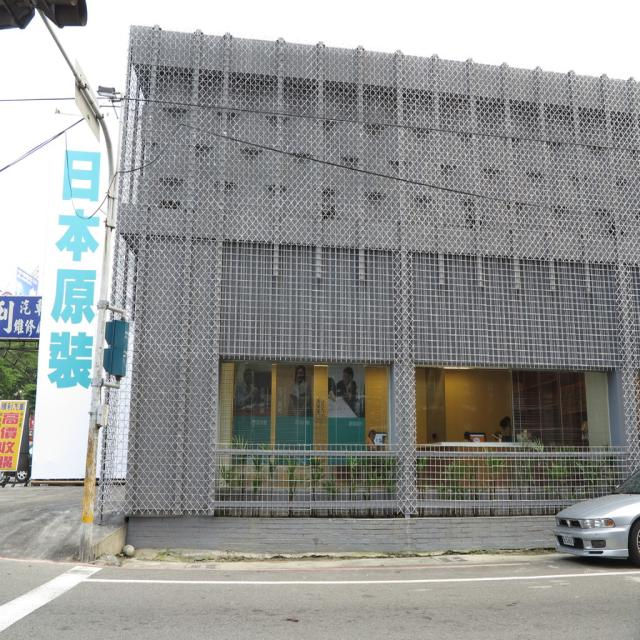car: (550, 484, 638, 565)
